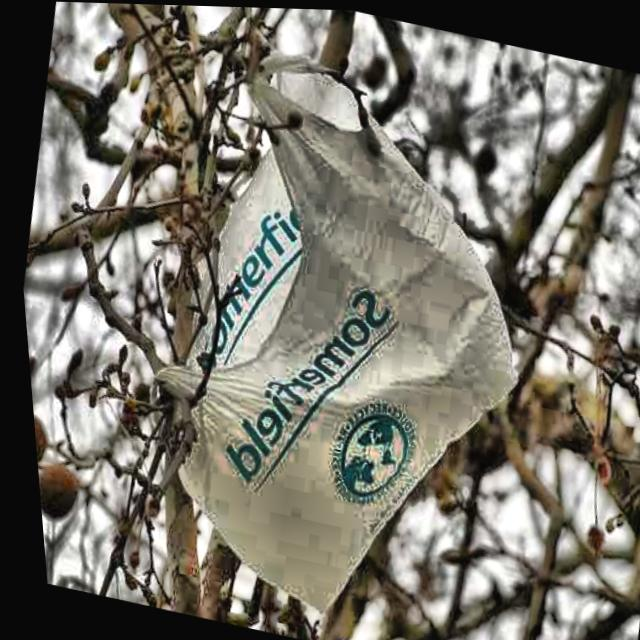Plastic: (50, 10, 596, 640)
